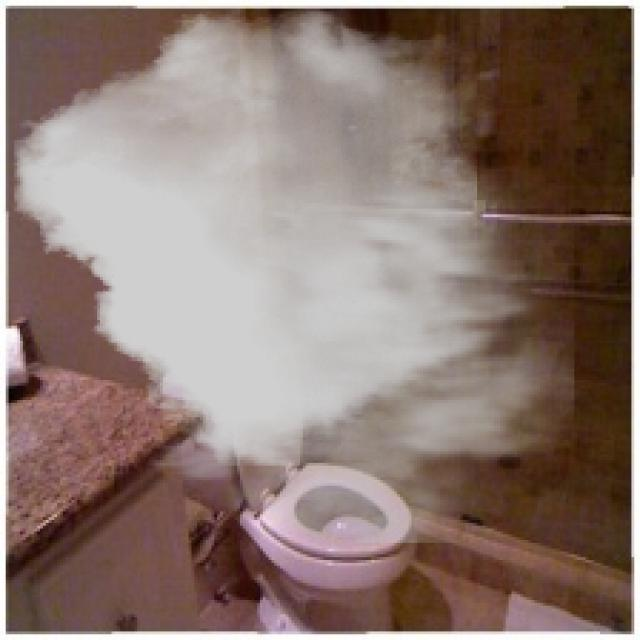smoke: (14, 6, 574, 543)
